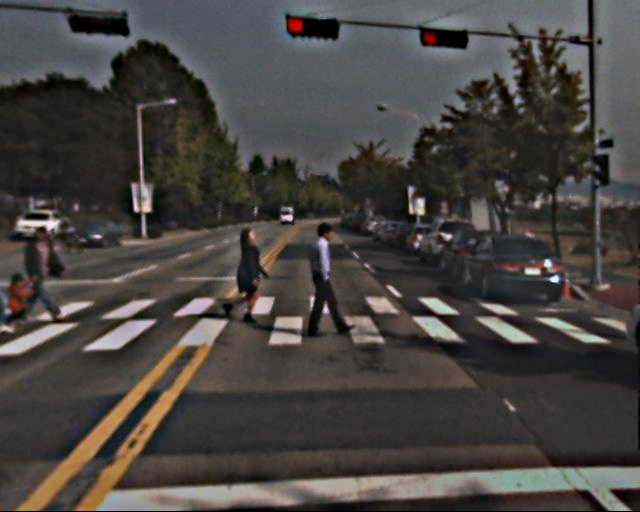person: (1, 218, 68, 319), (299, 221, 351, 340), (222, 226, 266, 322)
